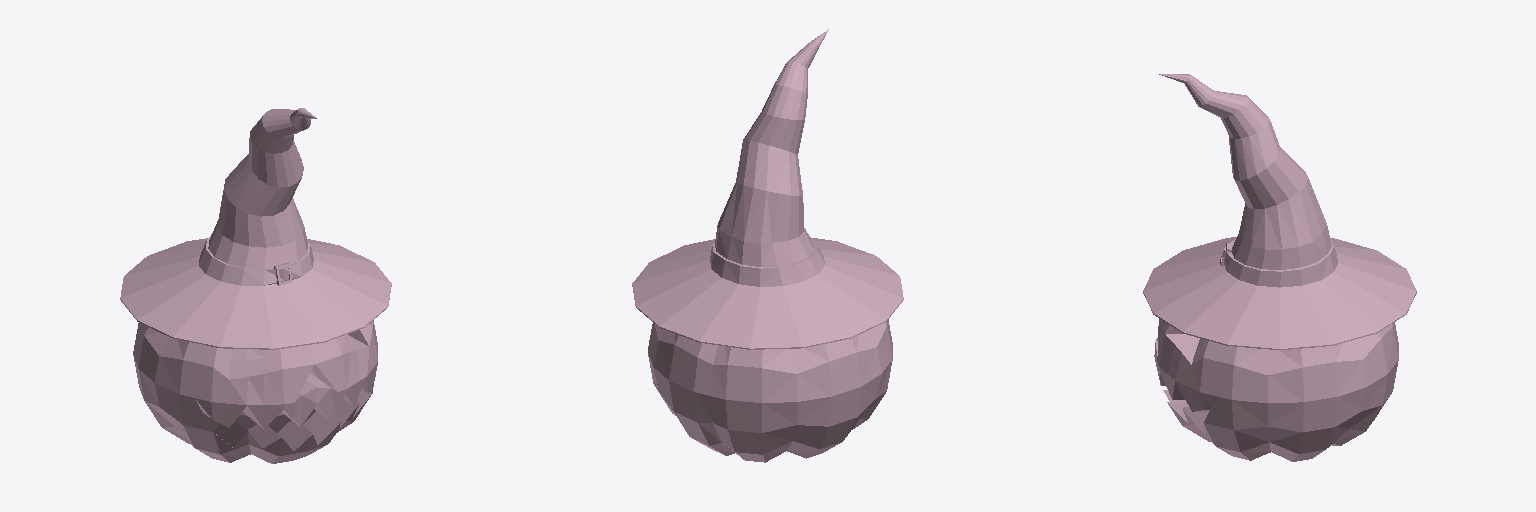
The model's file is pumpkin_with_witch_hatOBJ.obj.
The picture shows the model from 3 angles: view 1: azimuth 30°, elevation 25°; view 2: azimuth 150°, elevation 25°; view 3: azimuth 270°, elevation 25°; orthographic projection.
Visible parts, largest first — view 1: pumpkin_with_witch_hatOBJ; view 2: pumpkin_with_witch_hatOBJ; view 3: pumpkin_with_witch_hatOBJ.
Boxes of the visible parts, <box> form: pumpkin_with_witch_hatOBJ: <box>120,108,391,463</box>; pumpkin_with_witch_hatOBJ: <box>632,29,903,462</box>; pumpkin_with_witch_hatOBJ: <box>1143,74,1416,461</box>.
Bounding box in the file's own units: 119 × 175 × 119.